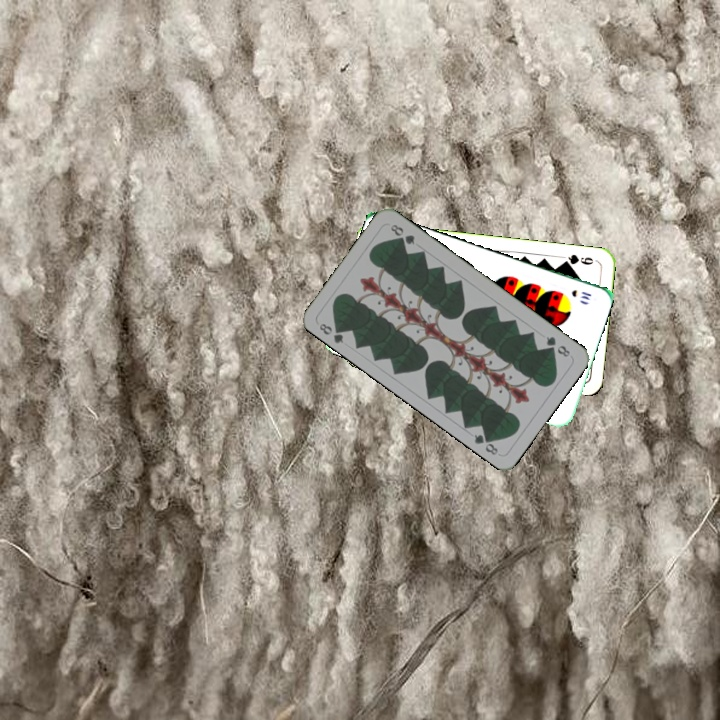G8: (542, 332, 573, 360), (315, 319, 347, 346)
G9: (558, 250, 600, 268)
S10: (567, 286, 594, 303)
